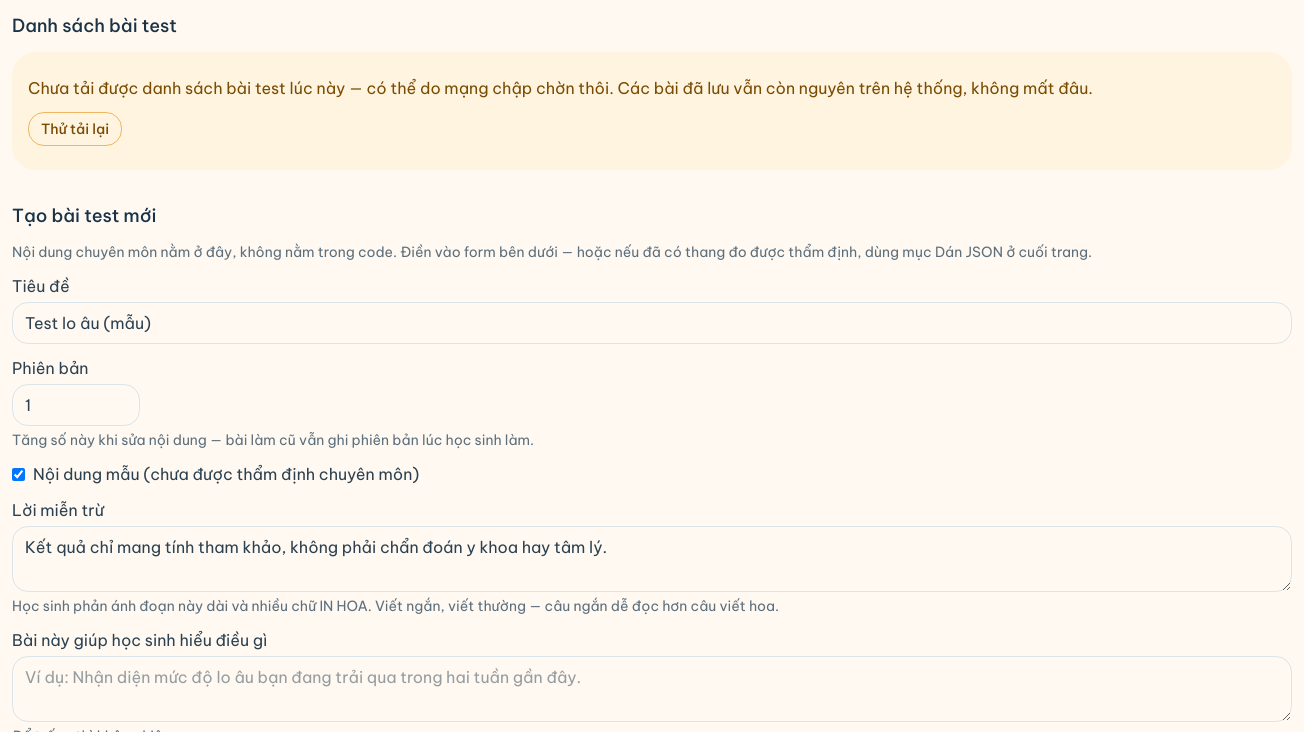
Scenario: TestEditor › bấm thử tải lại sau khi lỗi thì tải lại thành công
The width and height of the screenshot is (1304, 732).
Expected: the text "Chưa tải được danh sách bài test" is shown, [28,78,1093,98]
Step 1. Click the button "Thử tải lại" → {"x": 75, "y": 129}, box [28,112,122,146]
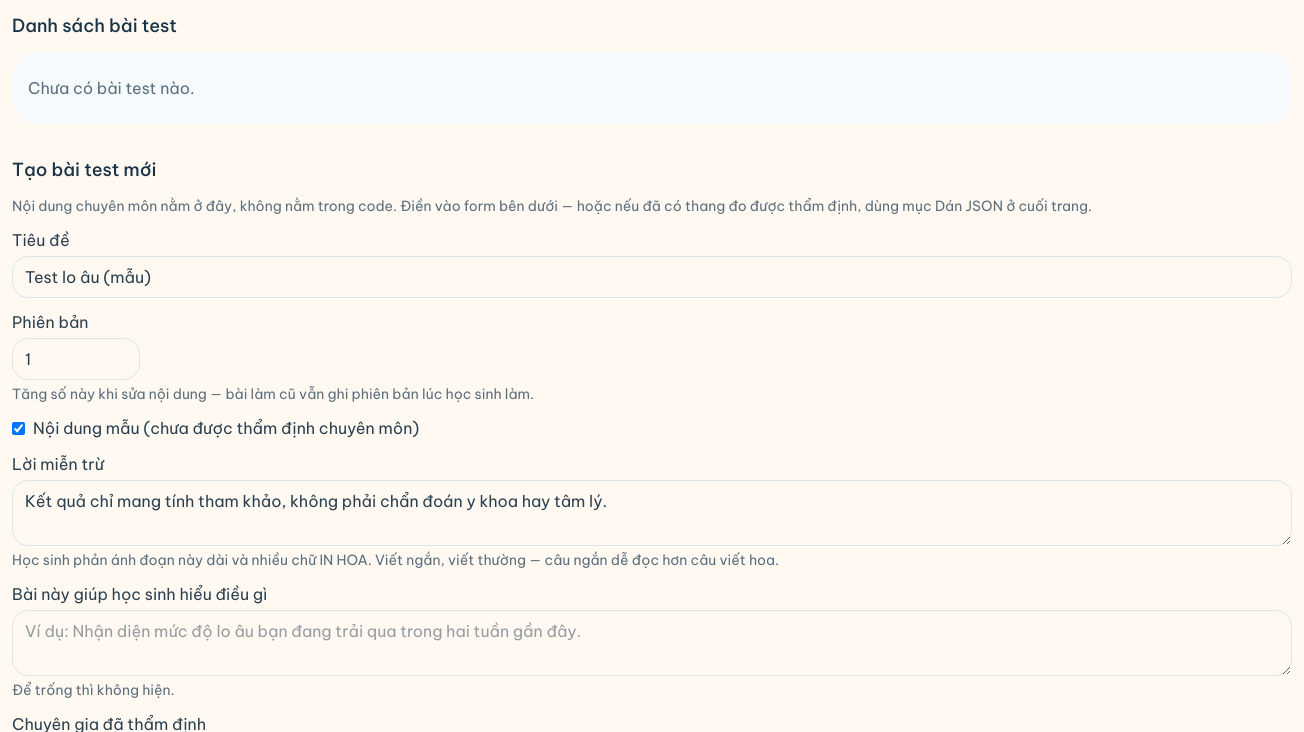
Result: the text "Chưa có bài test nào." is shown at [12,52,1292,124]
